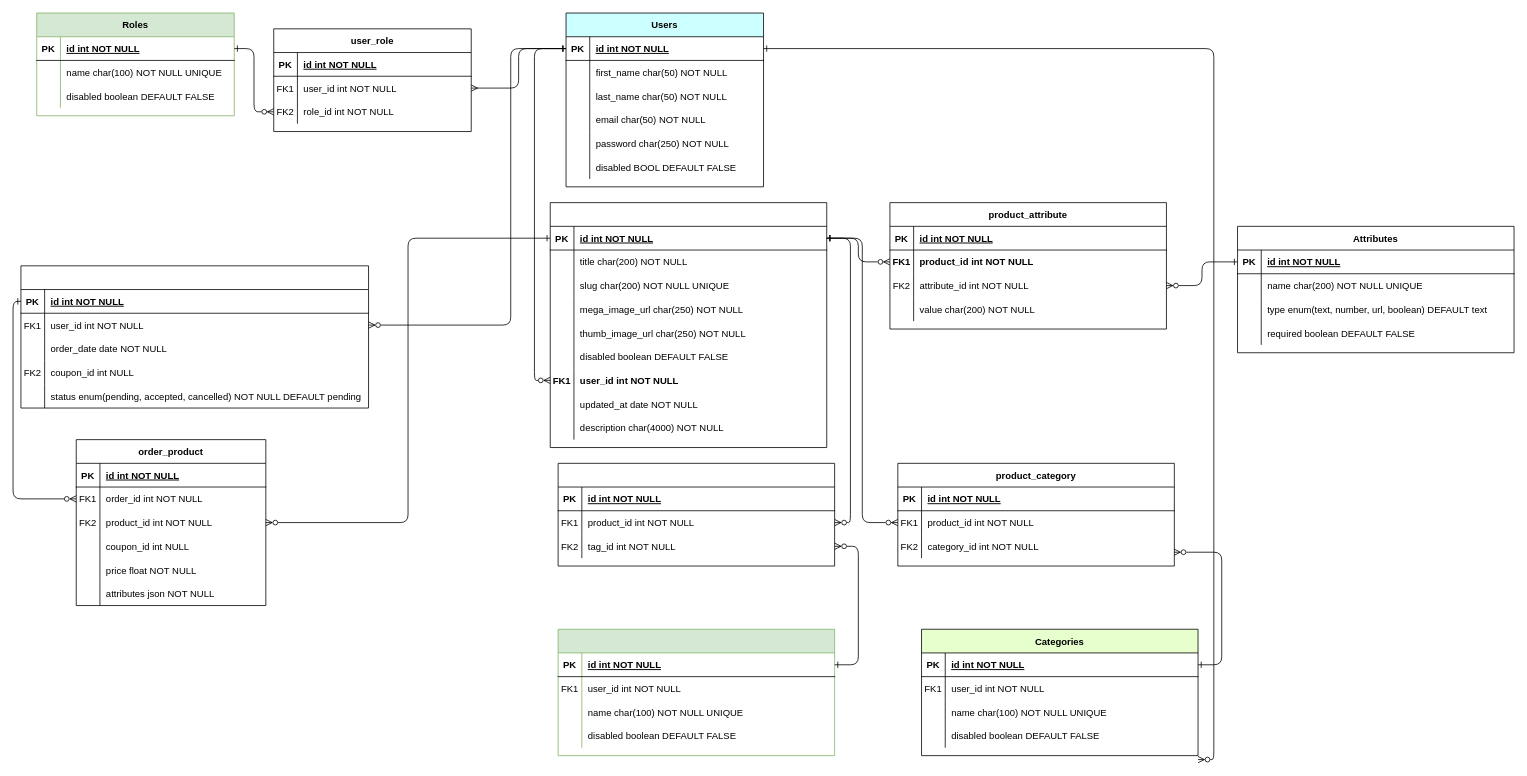
Image size: 1527x776. Some labels were removed from this diagram. The box of each missing label's shape, as (x1, y1, x2, y2) in pixels:
Orders: (20, 265, 369, 408)
product_tag: (557, 463, 835, 566)
Products: (549, 202, 827, 448)
Tags: (557, 628, 835, 756)
